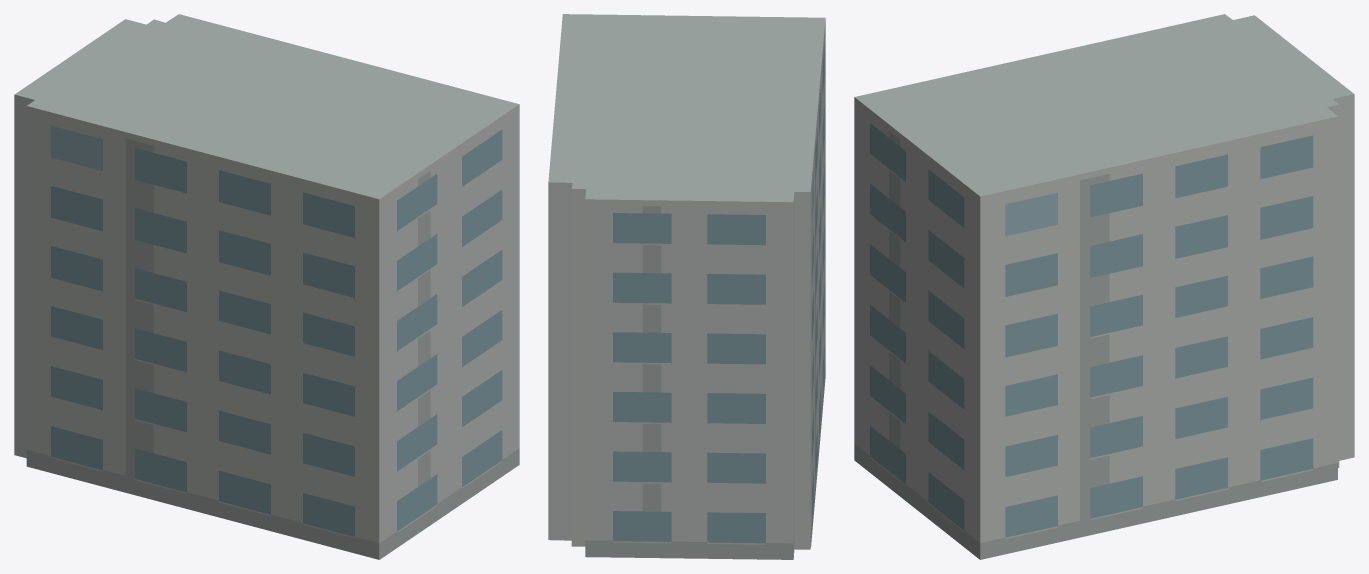
File: survey-upis-32889369.glb
The picture shows the model from 3 angles, left to right: view 1: azimuth 30°, elevation 25°; view 2: azimuth 150°, elevation 25°; view 3: azimuth 270°, elevation 25°; orthographic projection.
Visible parts, largest first — view 1: survey-upis-32889369.tmp; view 2: survey-upis-32889369.tmp; view 3: survey-upis-32889369.tmp.
Boxes of the visible parts, <box> form: survey-upis-32889369.tmp: <box>14,14,519,559</box>; survey-upis-32889369.tmp: <box>548,14,825,559</box>; survey-upis-32889369.tmp: <box>854,14,1354,559</box>.
Bounding box in the file's own units: 15.42 × 14.3 × 17.85.
